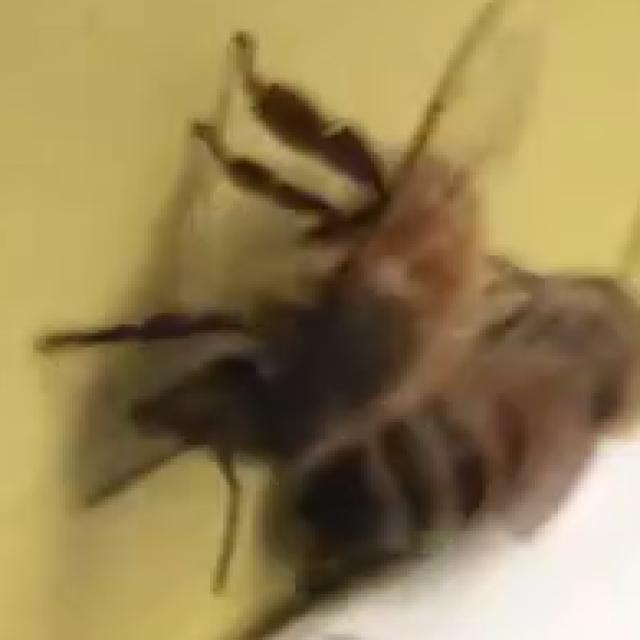honeybee: (39, 15, 606, 603)
